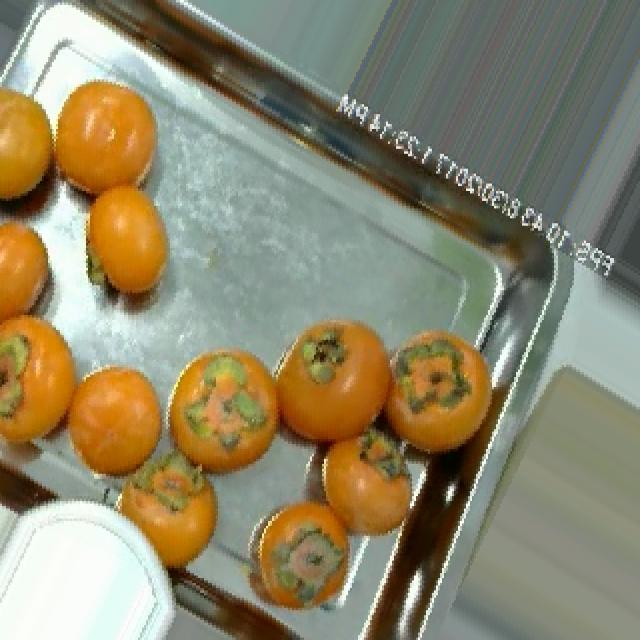Fruit: (262, 297, 408, 473), (154, 330, 296, 496), (370, 310, 488, 479), (100, 446, 238, 590), (50, 347, 176, 499), (0, 64, 72, 230)
